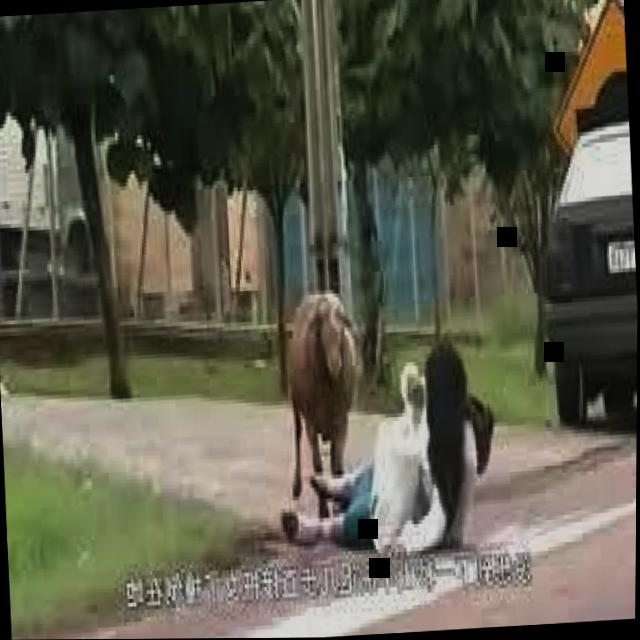Fall-Detected: (267, 311, 518, 567)
